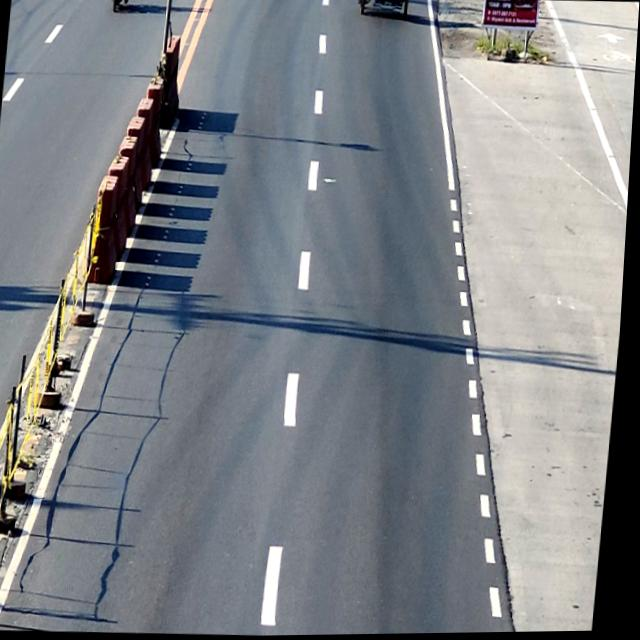Motorcycle: (106, 0, 127, 15)
Tricycle: (357, 0, 409, 24)
